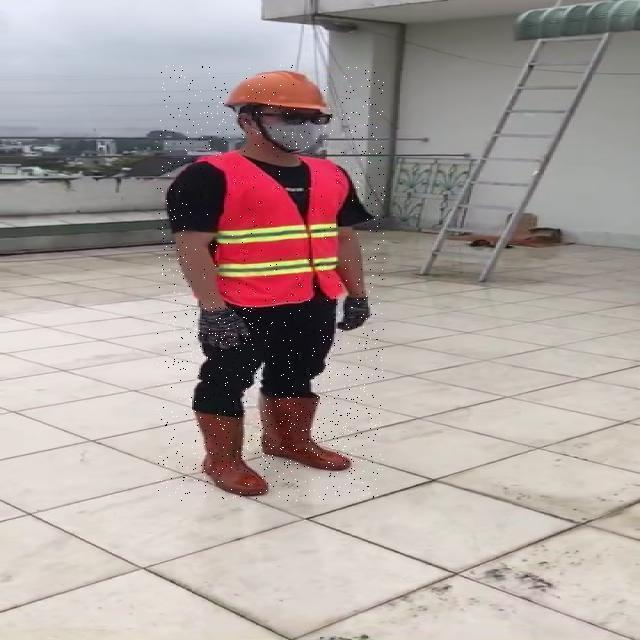gloves: (191, 309, 250, 350), (337, 295, 370, 332)
goggles: (247, 113, 334, 126)
helmet: (222, 67, 340, 113)
safety_vest: (187, 150, 357, 307)
